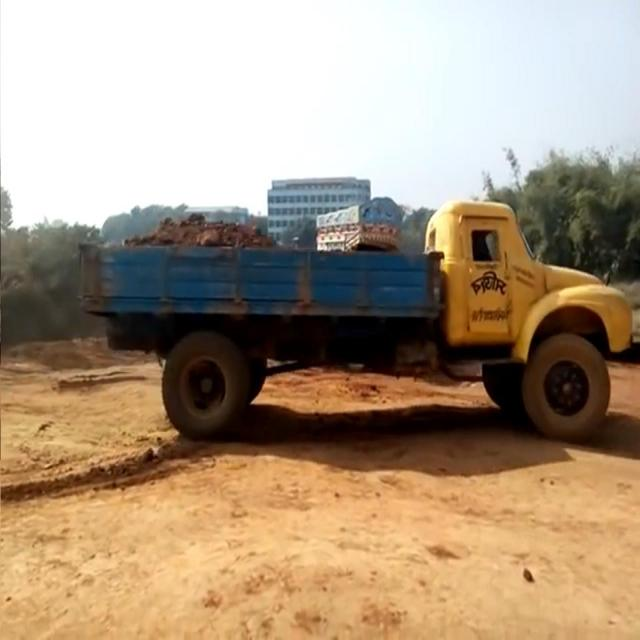truck: (73, 196, 638, 442)
